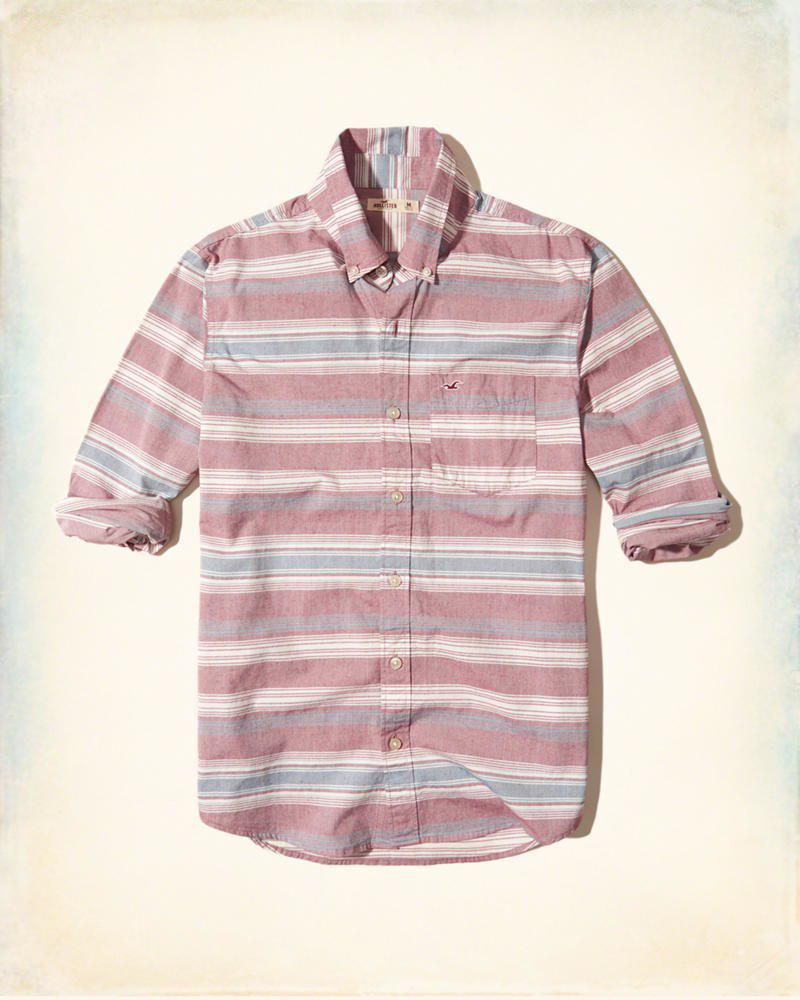teeshirt: (58, 124, 741, 869)
